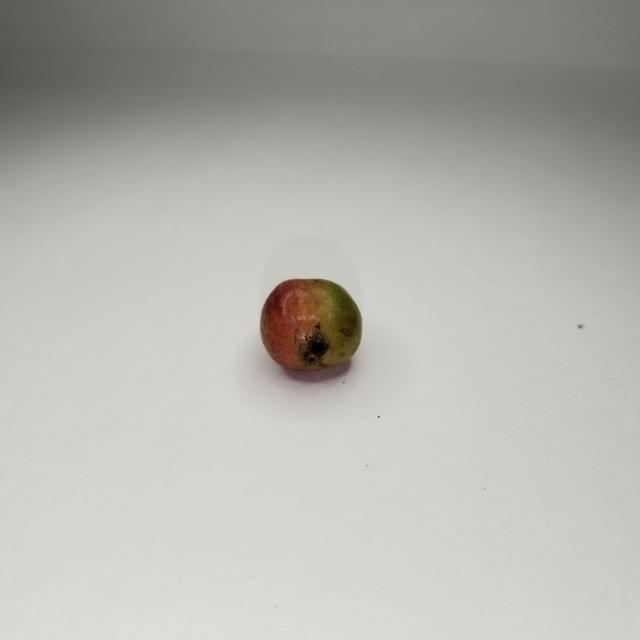Infectado: (257, 280, 365, 382)
